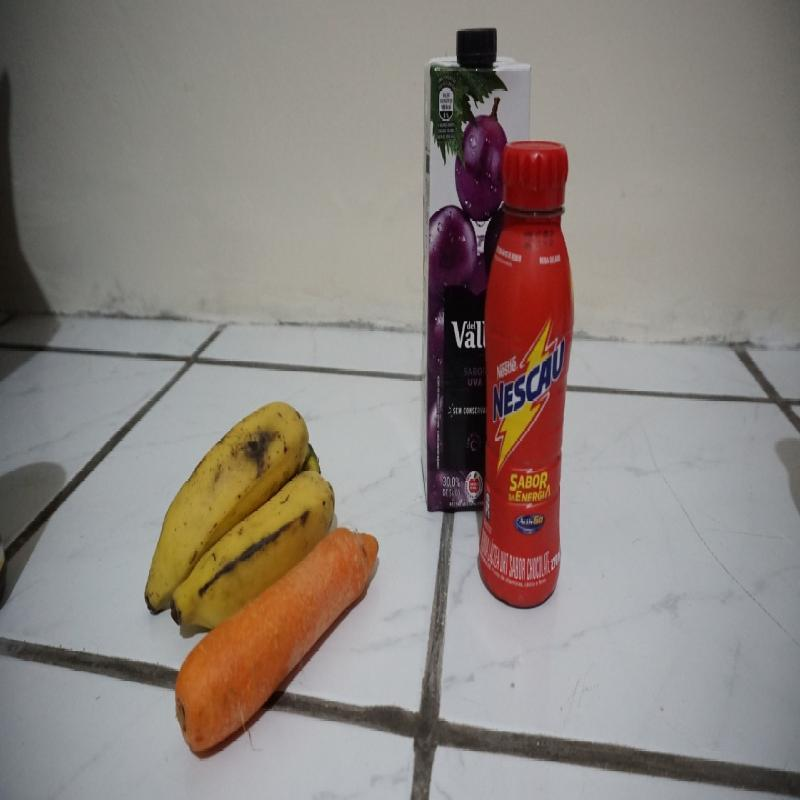Banana: (147, 397, 291, 564)
Carrot: (170, 575, 331, 754)
Chocolate Milk: (486, 142, 574, 606)
